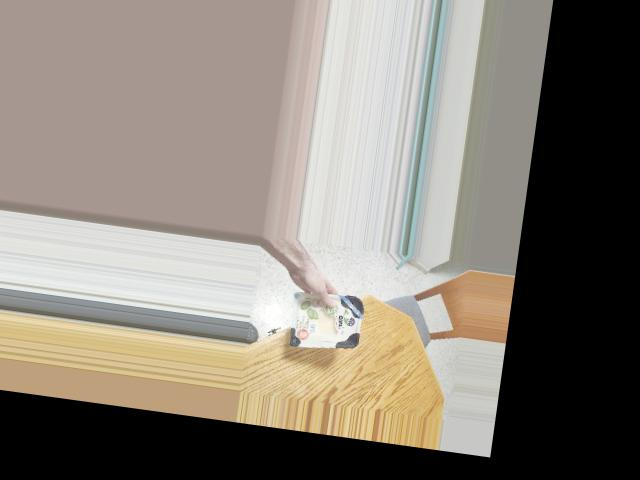cheese: (275, 289, 376, 356)
